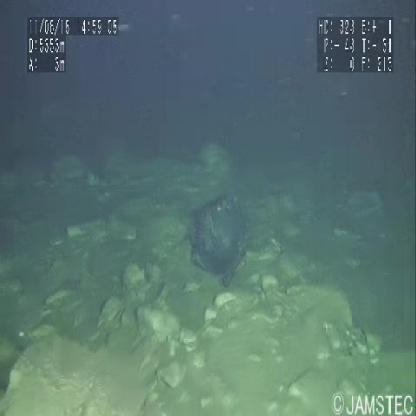Rác: (188, 196, 250, 292)
